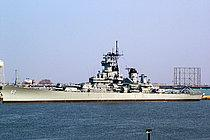MIL_Ship: (0, 44, 205, 102)
